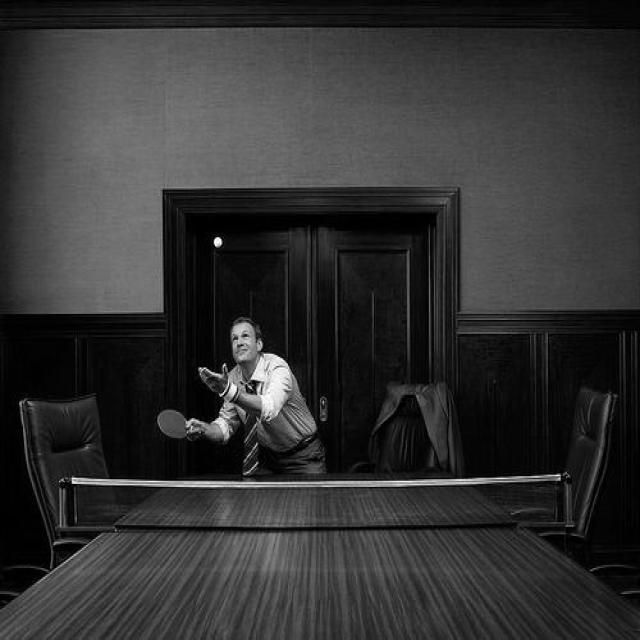ping-pong-ball: (213, 236, 223, 249)
